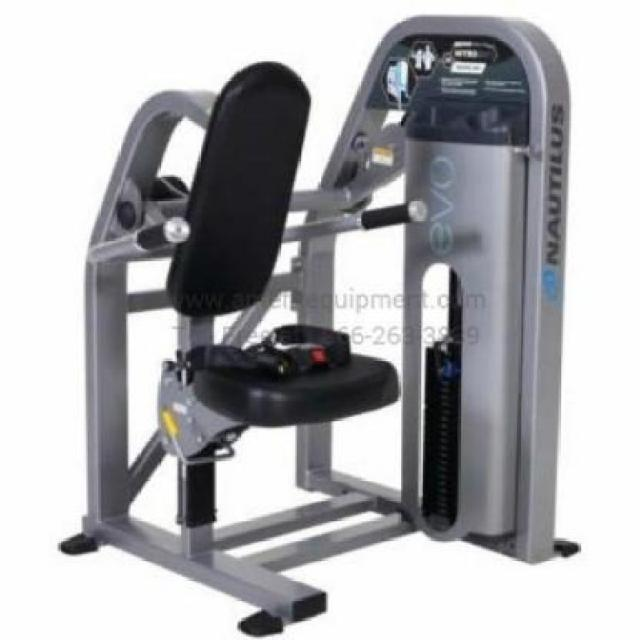seated dip machine: (88, 15, 589, 636)
